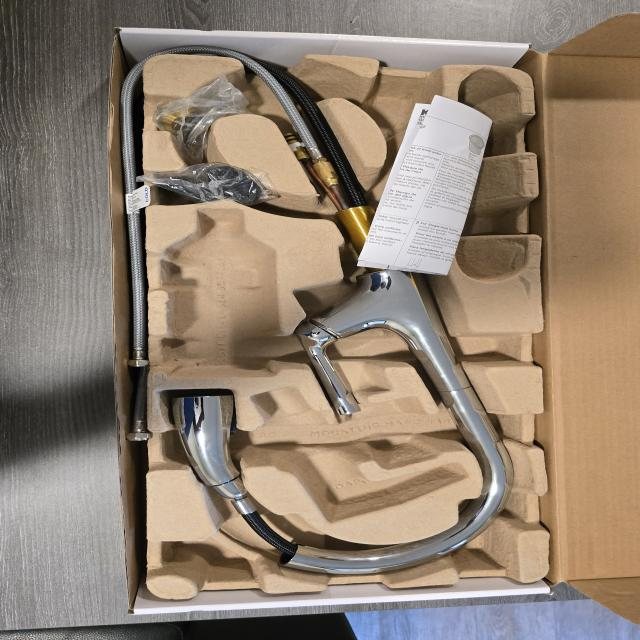1o: (172, 51, 513, 576)
2m: (250, 386, 469, 525)
3m: (165, 208, 275, 378)
4m: (449, 67, 526, 281)
5m: (365, 80, 443, 135)
6: (151, 72, 252, 158)
7: (133, 161, 283, 205)
8: (353, 94, 494, 276)
